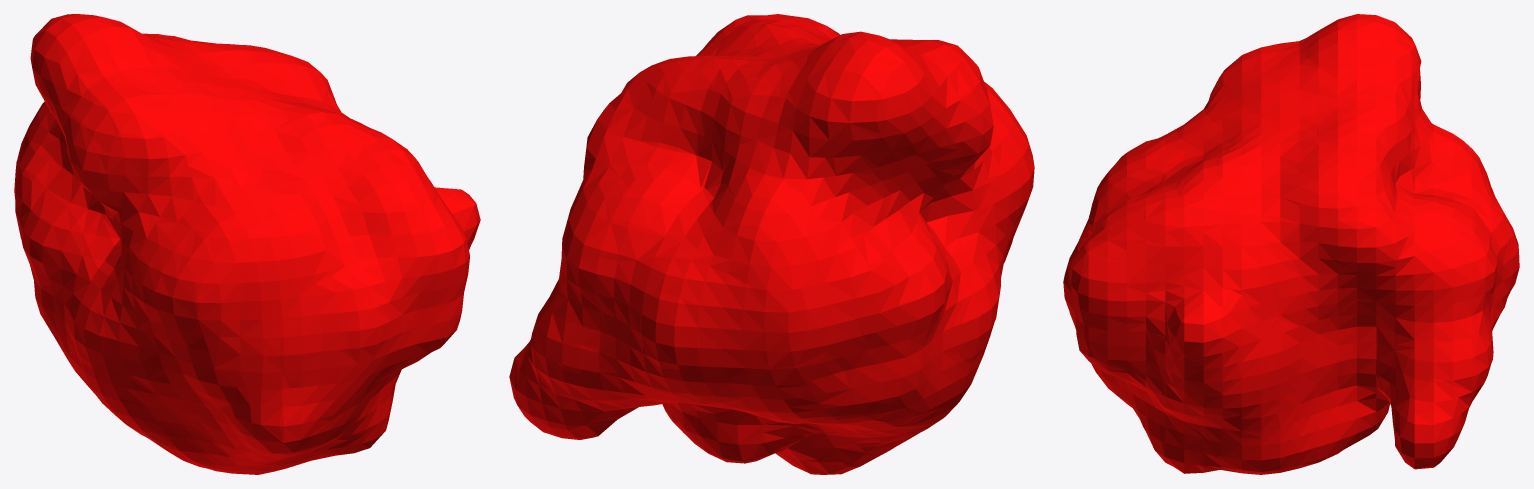
Rendered from yghA_coarse.dae.
3 renders of one model, left to right at view 1: azimuth 30°, elevation 25°; view 2: azimuth 150°, elevation 25°; view 3: azimuth 270°, elevation 25°, orthographic. The views are drawn at different scales.
Visible parts, largest first — view 1: yghA; view 2: yghA; view 3: yghA.
Part boxes in pixels (x1,y1,x2,y2): yghA: [14, 14, 480, 474]; yghA: [509, 14, 1034, 474]; yghA: [1063, 14, 1519, 474].
Bounding box in the file's own units: 46.06 × 52.79 × 54.96.
